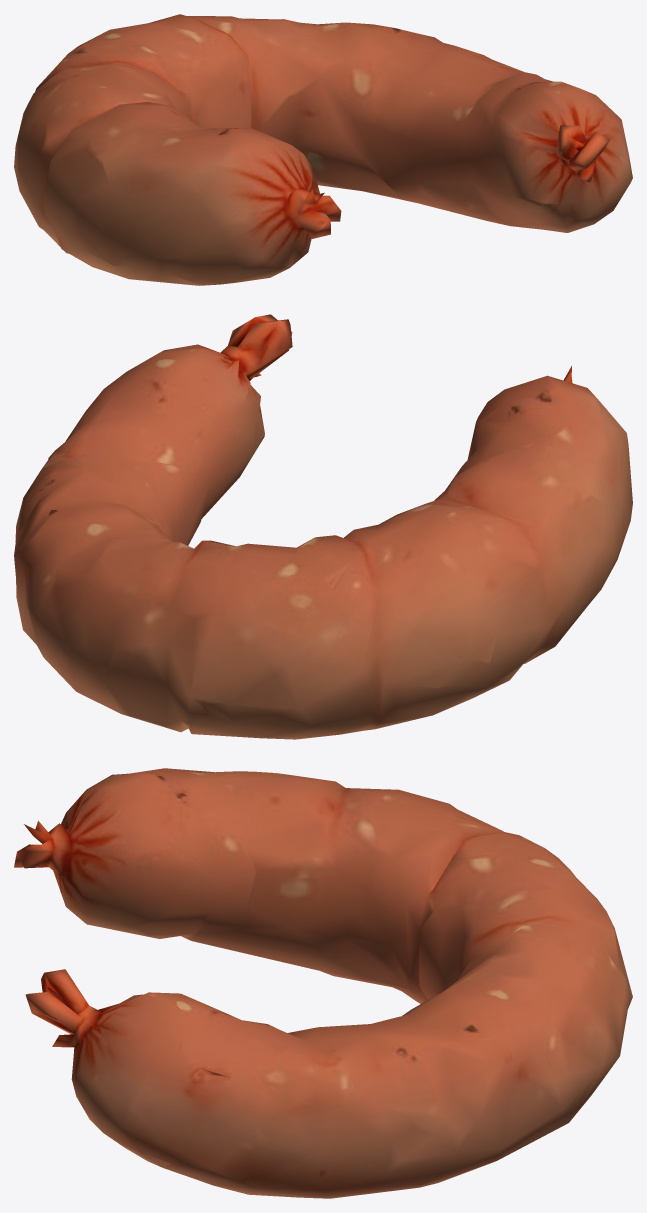
File: meat_chorizo.glb
The picture shows the model from 3 angles, top to bottom: view 1: azimuth 30°, elevation 25°; view 2: azimuth 150°, elevation 25°; view 3: azimuth 270°, elevation 25°; orthographic projection. The views are drawn at different scales.
Parts seen in each view (by area): view 1: tripo_node_52c1a1ec-f8f0-4484-be9c-6c83745444de; view 2: tripo_node_52c1a1ec-f8f0-4484-be9c-6c83745444de; view 3: tripo_node_52c1a1ec-f8f0-4484-be9c-6c83745444de.
Part boxes in pixels (box(x1,y1,x2,y2)): tripo_node_52c1a1ec-f8f0-4484-be9c-6c83745444de: box(14, 14, 632, 285); tripo_node_52c1a1ec-f8f0-4484-be9c-6c83745444de: box(14, 314, 632, 739); tripo_node_52c1a1ec-f8f0-4484-be9c-6c83745444de: box(14, 768, 632, 1198).
Bounding box in the file's own units: 1 × 0.4224 × 0.9686.
1 material, 1 textured.
